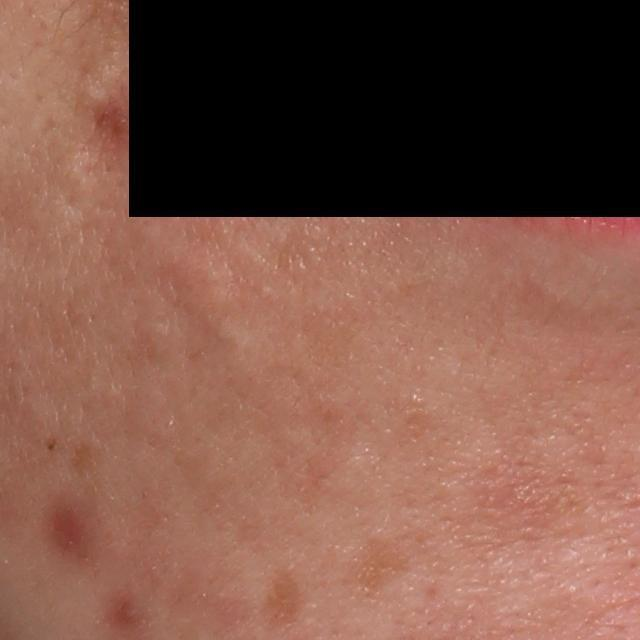hypertrophic_scar: (162, 241, 247, 347), (34, 152, 95, 250)
